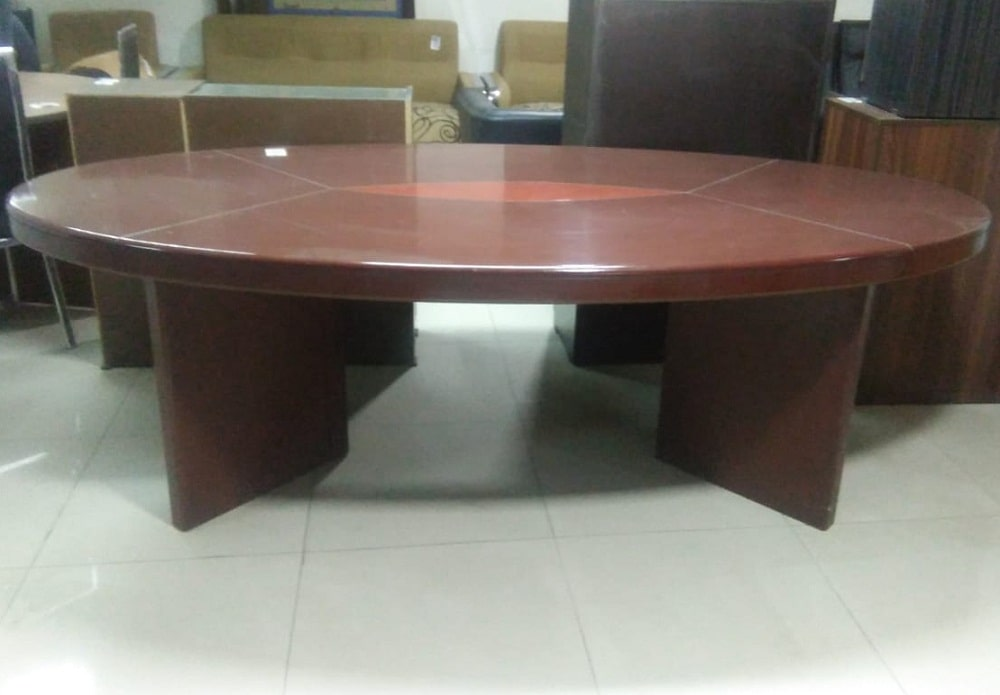conference_table: (11, 146, 991, 532)
